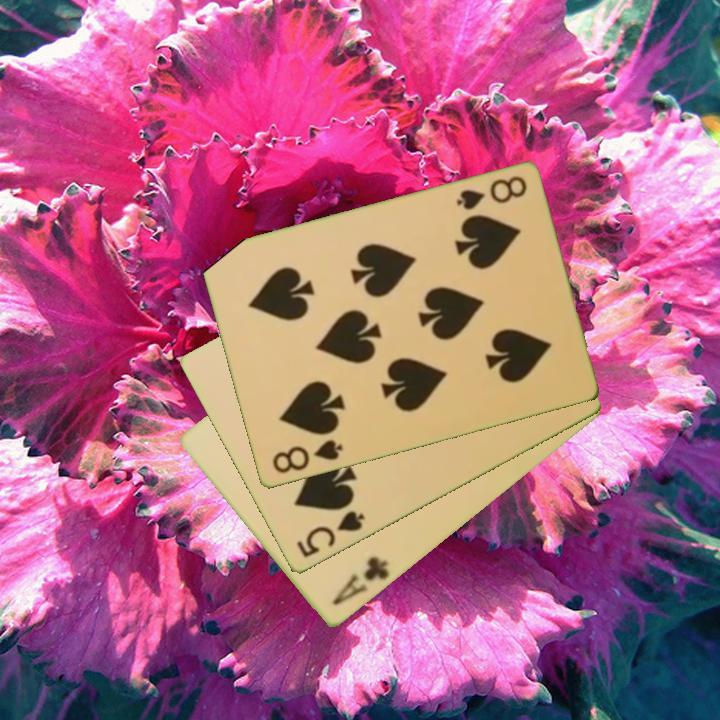5s: (293, 507, 368, 561)
8s: (452, 173, 530, 214), (268, 436, 345, 477)
Ac: (329, 553, 392, 610)
